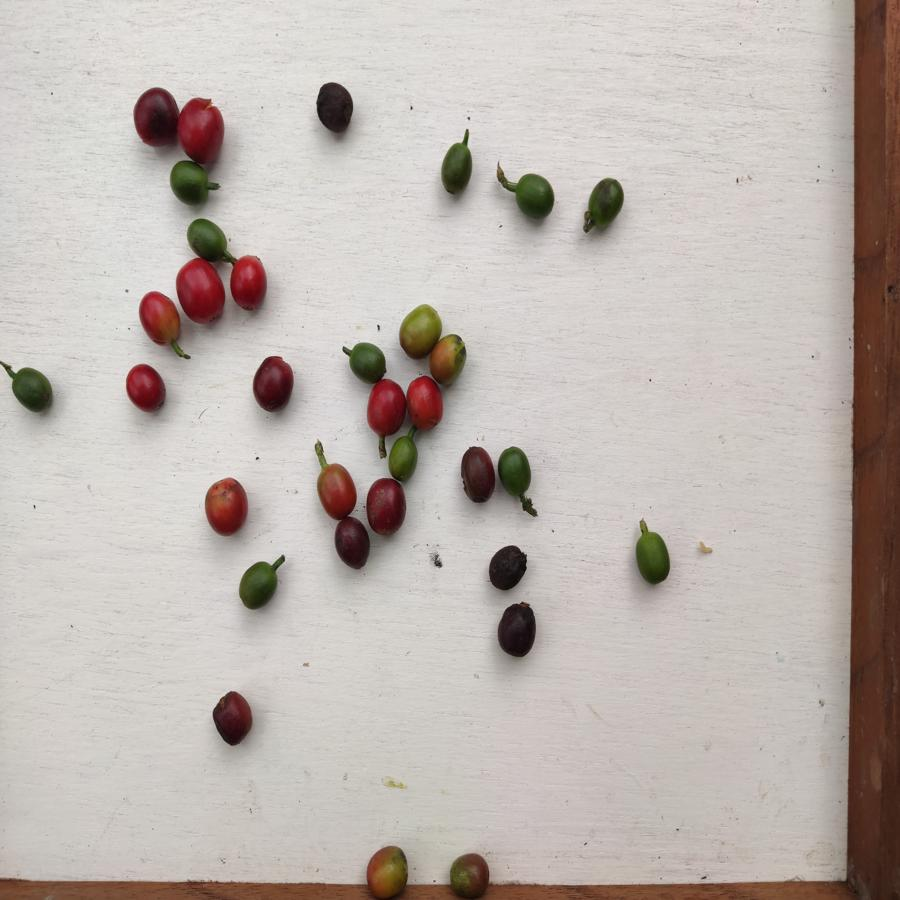Inmaduro: (633, 525, 674, 587), (8, 365, 56, 416), (496, 445, 538, 498), (239, 559, 279, 613), (513, 171, 555, 222), (585, 177, 625, 230), (439, 141, 476, 198), (168, 160, 213, 205), (187, 216, 231, 258), (348, 341, 387, 382), (388, 435, 420, 480)
Maduro: (175, 259, 228, 323), (178, 95, 226, 163), (203, 475, 248, 538), (228, 252, 272, 312), (364, 378, 408, 438), (136, 290, 181, 344), (125, 362, 169, 415), (407, 376, 445, 433)
Pinton: (364, 842, 414, 900), (397, 303, 441, 359), (318, 462, 359, 519), (448, 851, 492, 900), (429, 333, 469, 385)
Sobremaduro: (129, 87, 180, 150), (212, 688, 256, 751), (312, 79, 359, 136), (252, 354, 294, 416), (365, 478, 408, 538), (498, 600, 538, 658), (332, 515, 371, 572), (460, 445, 495, 507), (486, 545, 528, 592)
